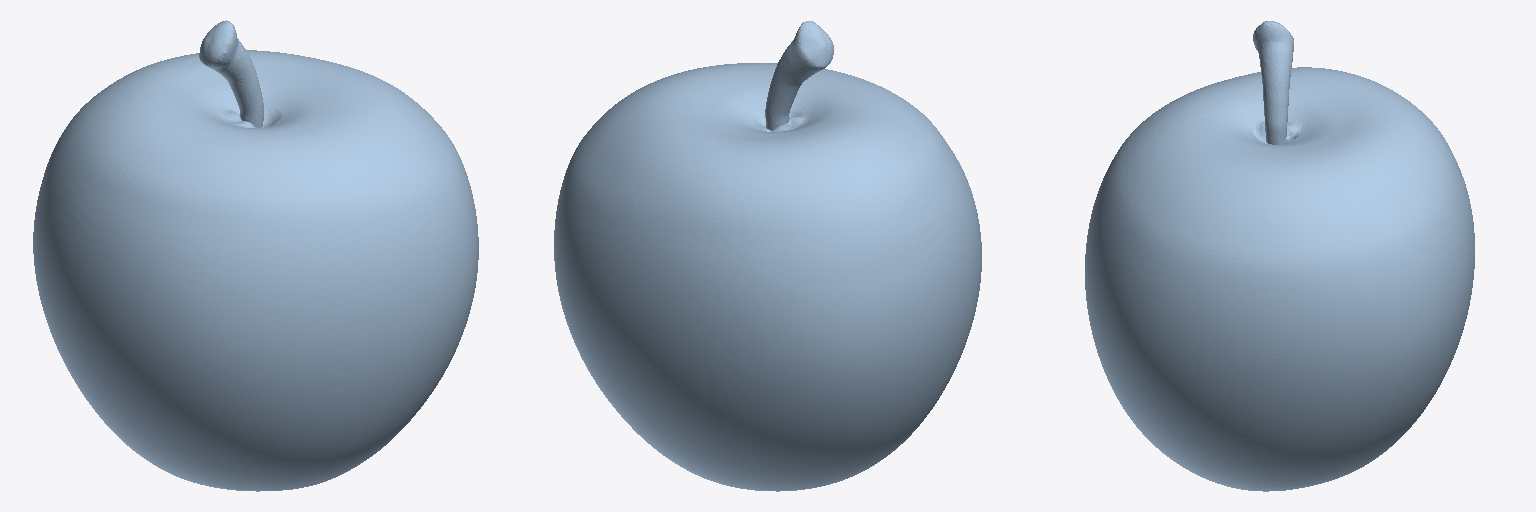
The robot description file, URDF, robot "apple.urdf":
<?xml version="1.0" ?>
<robot name="apple.urdf">
  <dynamics damping="0.5" friction="0.9"/>
  <link name="baseLink">
    <contact>
      <lateral_friction value="0.9"/>
      <rolling_friction value="0.5"/>
      <stiffness value="30000"/>
      <damping value="1000"/>
    </contact>
    <visual>
      <origin rpy="0 0 0" xyz="0 0 0"/>
      <geometry>
        <mesh filename="apple/apple.obj" scale="1.0 1.0 1.0"/>
      </geometry>
       <material name="mat">
        <color rgba="0.7 0.8 0.9 1"/>
      </material>
    </visual>
    <collision>
      <origin rpy="0 0 0" xyz="0 0 0"/>
      <geometry>
	 	<mesh filename="apple/apple.obj" scale="1.0 1.0 1.0"/>
      </geometry>
    </collision>
  </link>
</robot>

--- Render facts (derived) ---
Views: 3 orthographic renders of the robot side by side, from view 1: azimuth 30°, elevation 25°; view 2: azimuth 150°, elevation 25°; view 3: azimuth 270°, elevation 25°.
Robot: apple.urdf — 1 links, 0 joints (none); root link baseLink; default pose: all joints at 0.
Visible links, largest first — view 1: baseLink; view 2: baseLink; view 3: baseLink.
Link boxes in pixels (x1,y1,x2,y2): baseLink: (33, 20, 478, 491); baseLink: (554, 21, 981, 491); baseLink: (1085, 21, 1474, 491).
Bounding box of the posed robot: 0.0868 × 0.0819 × 0.0985 m (x, y, z).
Meshes: 1 distinct files referenced, 1 mesh visuals loaded (1 OBJ).
